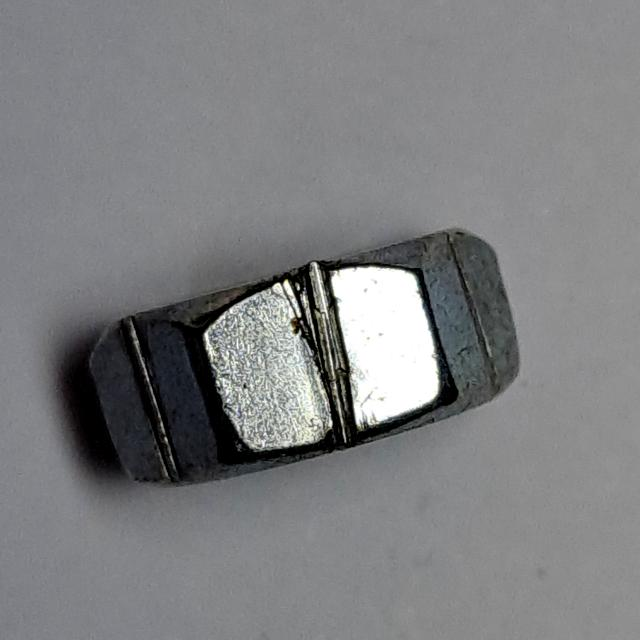Side_Scratches: (81, 215, 536, 497)
